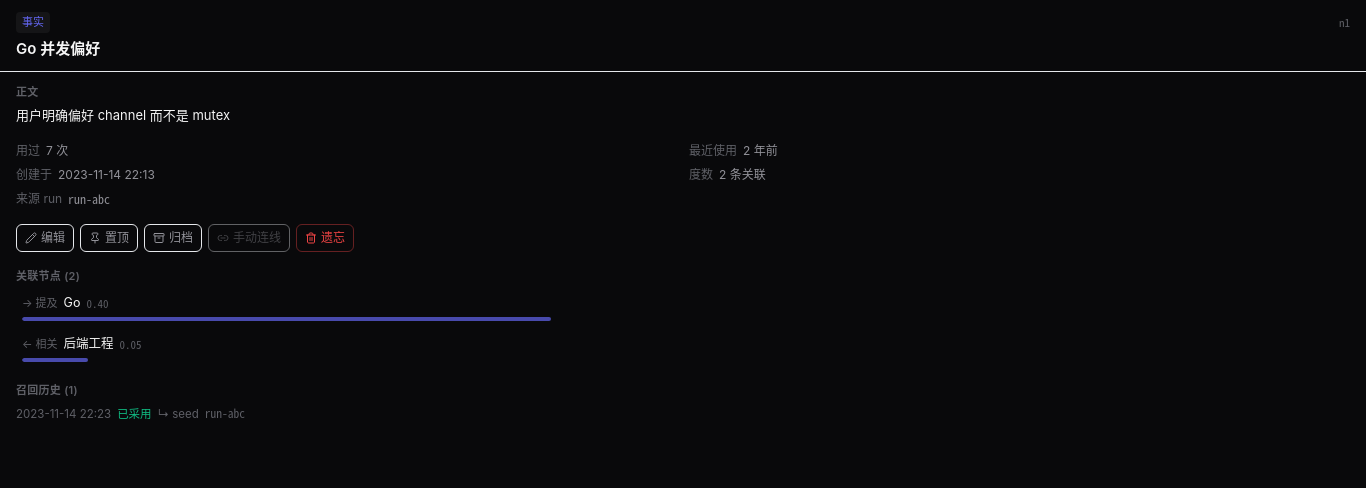
Test: MemoryDetailPanel 操作 › 写操作抛错时把错误显示出来，而不是静默失败
Click the button "置顶" at (109, 238), box [80, 224, 138, 252]
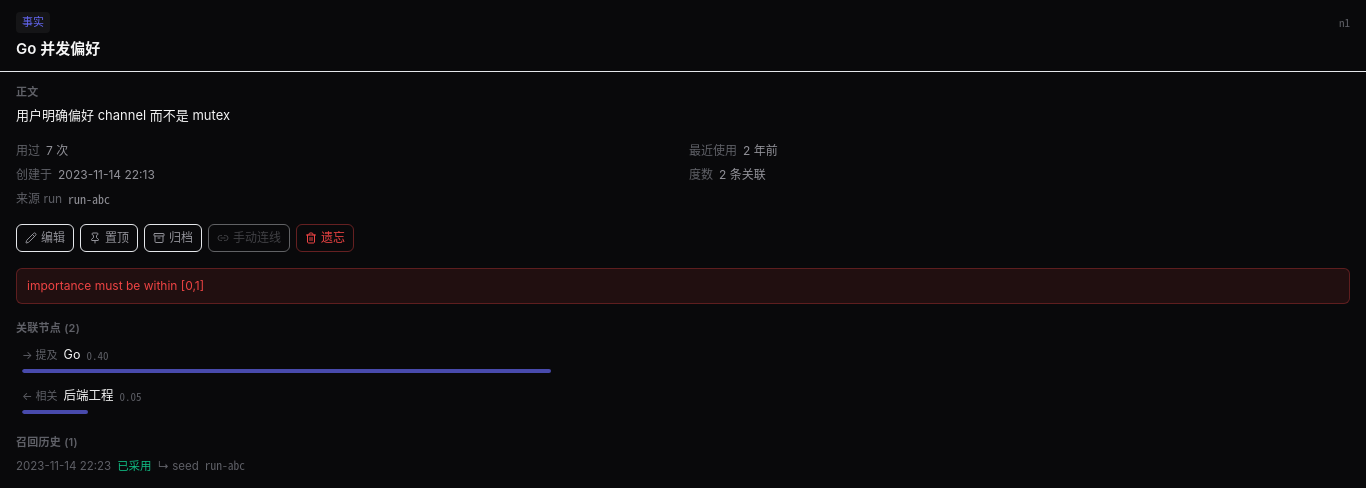
Check: the text "importance must be within [0,1]" is shown, box [16, 268, 1350, 304]
